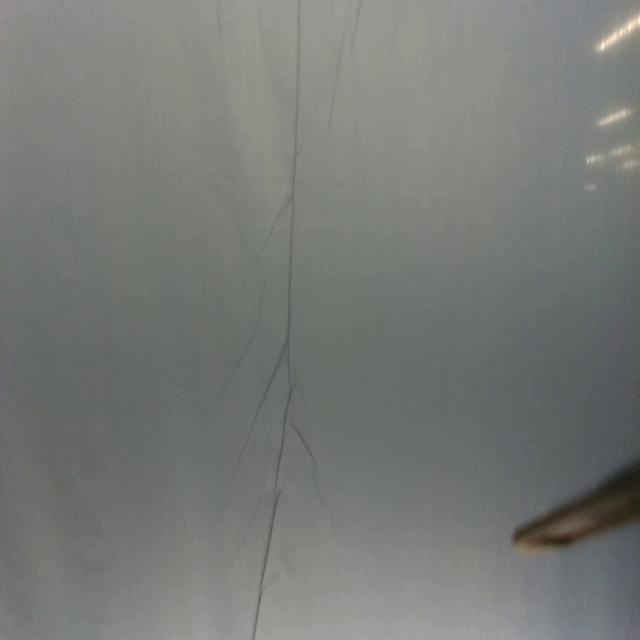crease: (252, 2, 310, 639), (224, 330, 284, 505), (212, 272, 270, 416), (324, 12, 350, 124), (256, 192, 291, 261), (350, 0, 365, 53)
